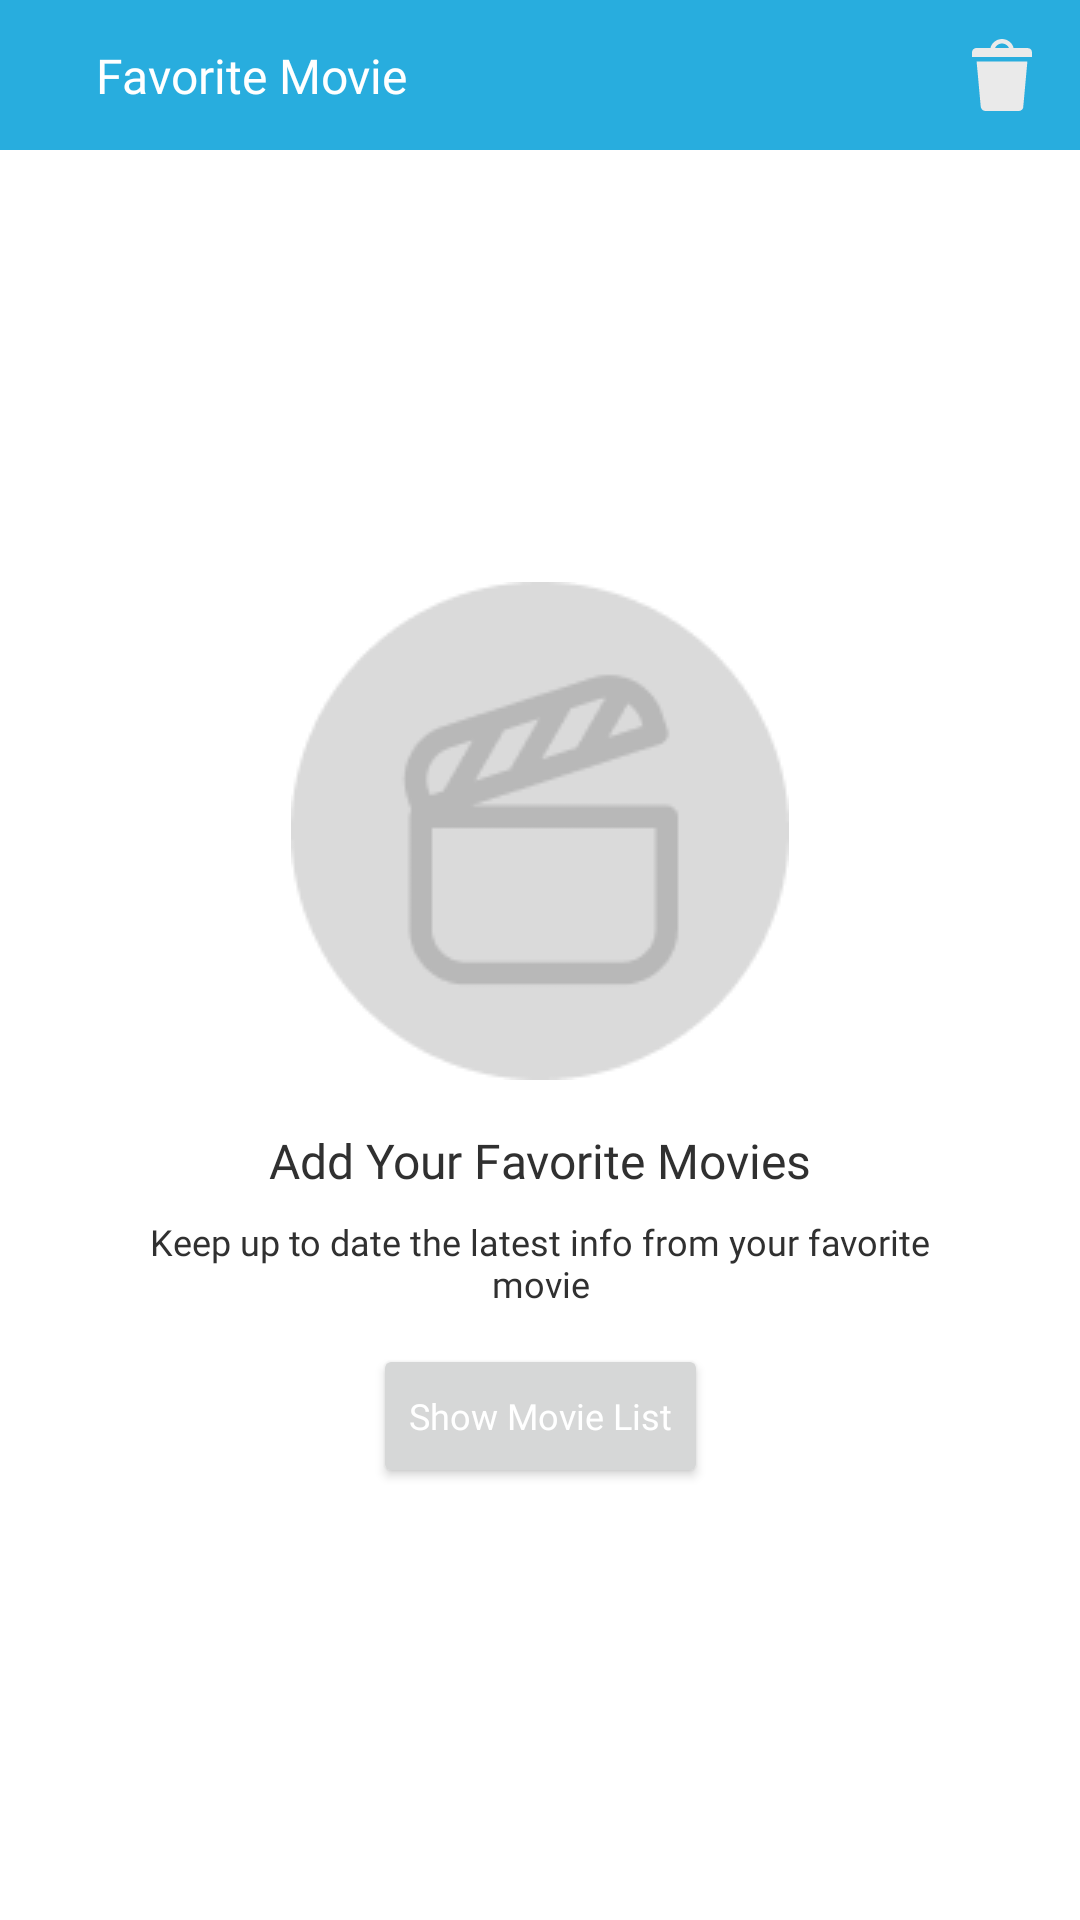

Icons on this 1080*1920 Android screen, each with the point to tap as (x=x, y=y):
Icon delete favorite movie: (x=1002, y=75)
